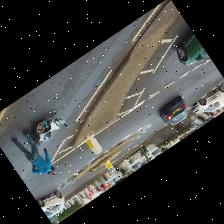person: (11, 130, 54, 175)
